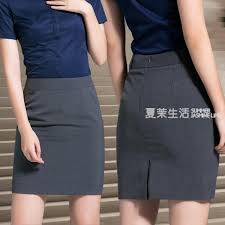F_tailored skirt: (110, 49, 225, 206), (4, 75, 110, 204)
